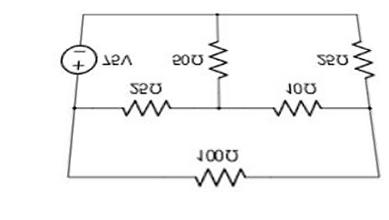resistor: (201, 29, 236, 86), (191, 160, 254, 190), (263, 94, 327, 122), (118, 95, 185, 120), (345, 32, 375, 87)
